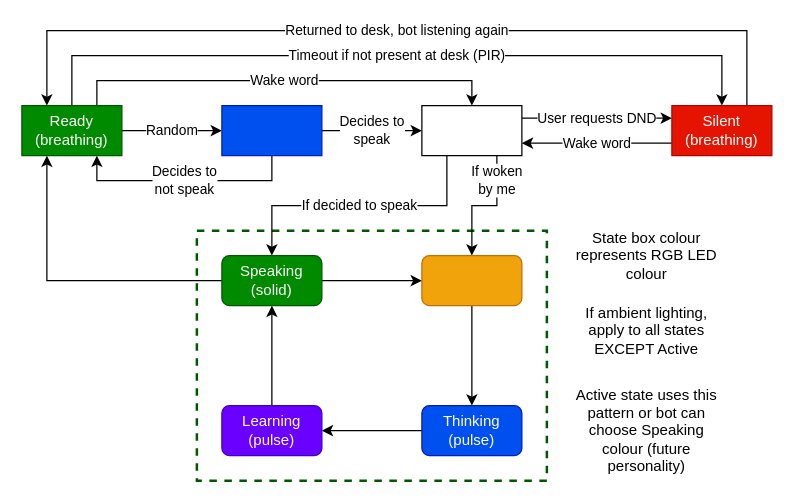
This 794x504 diagram has some shape labels left out. The centre of each missing label's shape, as x and y in pixels:
"Active (override ambient)" goes at point 471,130.
"Listening (breathing)" goes at point 471,280.
"Observing (breathing)" goes at point 271,130.
